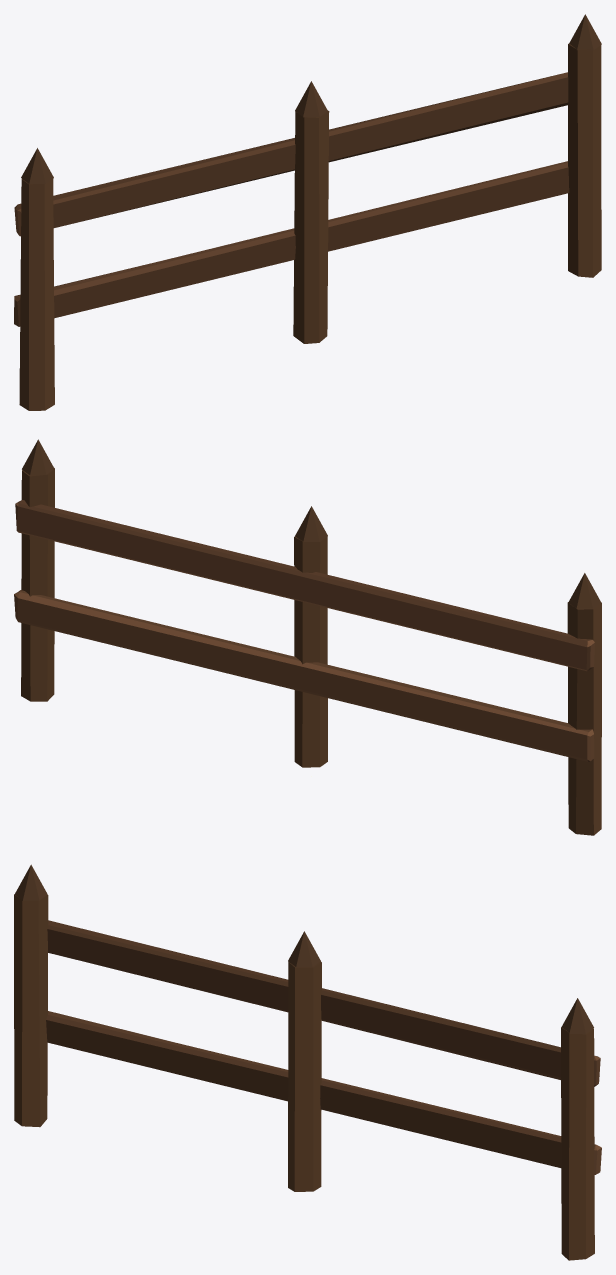
The model's file is fence.glb.
The picture shows the model from 3 angles, top to bottom: view 1: azimuth 30°, elevation 25°; view 2: azimuth 150°, elevation 25°; view 3: azimuth 330°, elevation 25°; orthographic projection.
Visible parts, largest first — view 1: Fence; view 2: Fence; view 3: Fence.
Part boxes in pixels (x1,y1,x2,y2): Fence: [14, 14, 601, 410]; Fence: [14, 439, 601, 835]; Fence: [14, 864, 601, 1260].
Size of the model in its own units: 2.01 by 0.9 by 0.1149.
